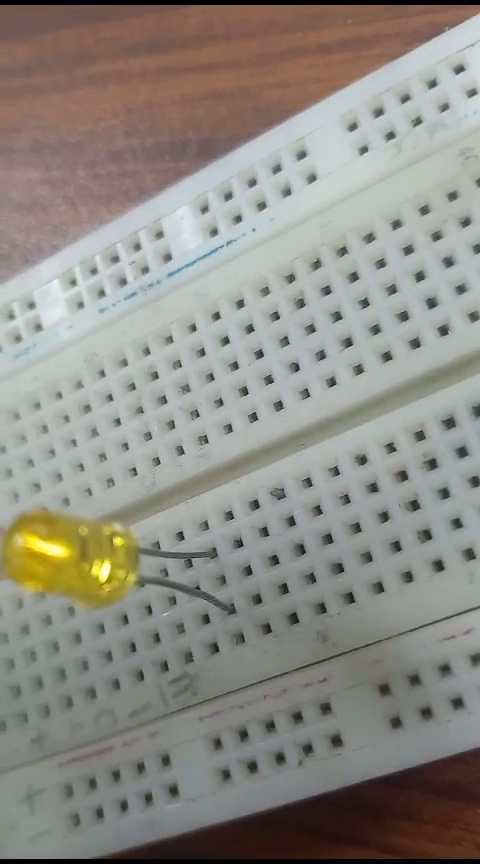LED: (12, 500, 220, 640)
